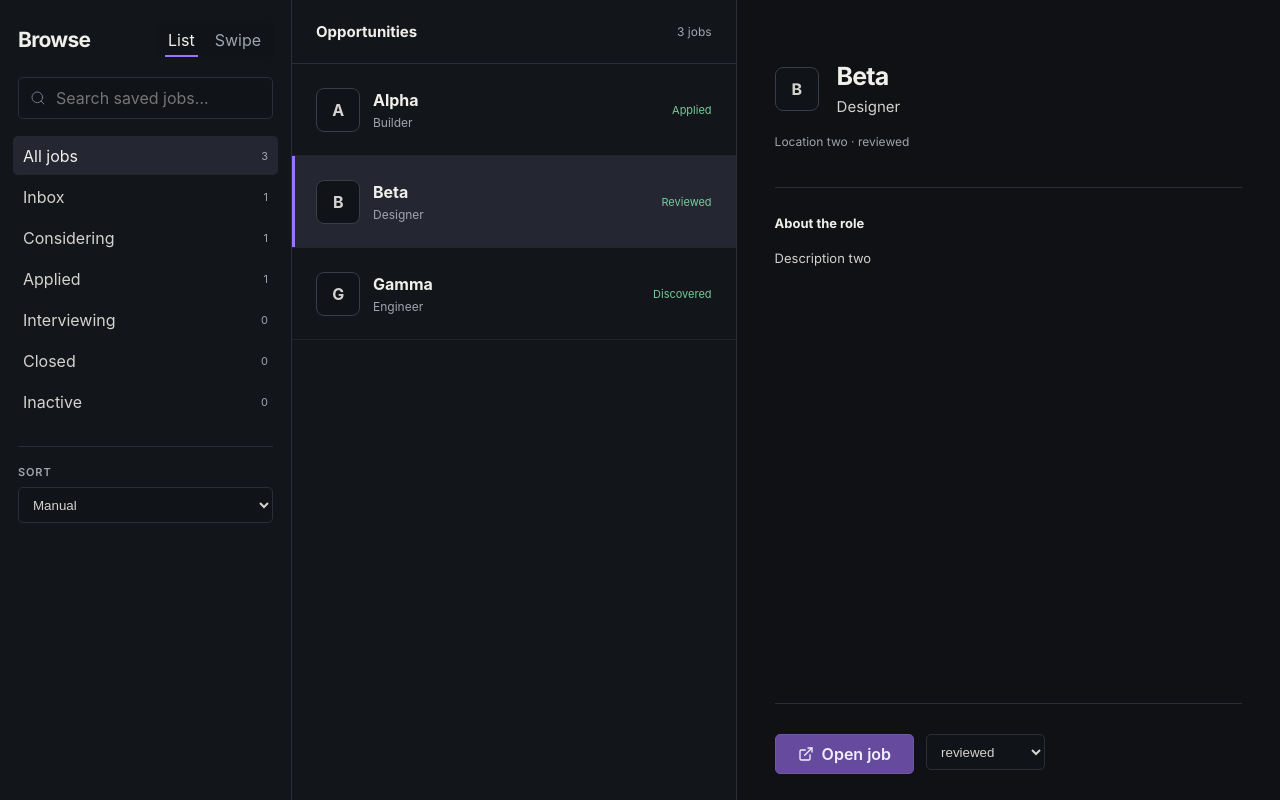
Test: Open job prevents duplicates and reports failure without leaving Browse
expect the text "Description two" is shown: met, box x1=775 y1=251 x2=871 y2=267
Click the button "Open job" at (844, 754), box x1=775 y1=734 x2=914 y2=774
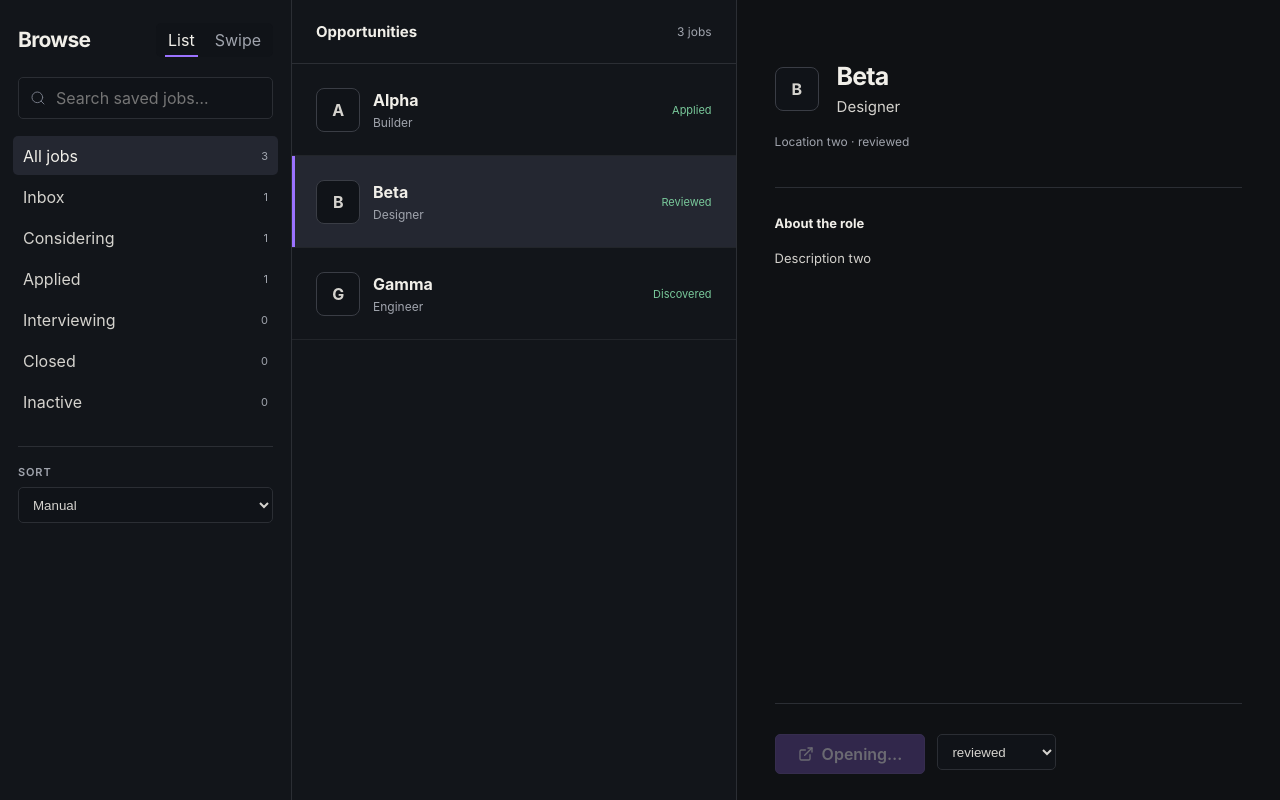
expect the button "Opening…" is disabled: met
Click the button "Opening…" at (850, 754), box x1=775 y1=734 x2=925 y2=774
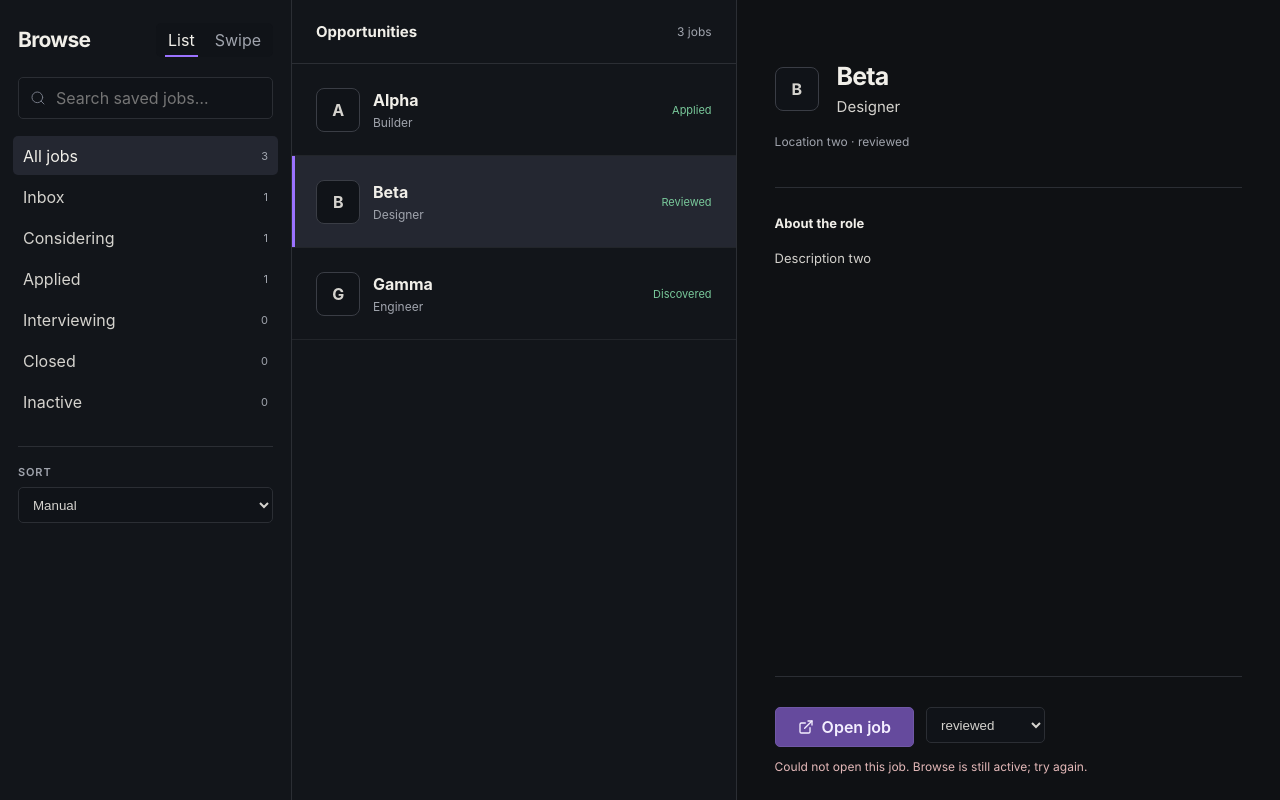
expect the heading "Browse" is shown: met, box x1=18 y1=28 x2=90 y2=52
expect the message shows "Could not open this job": met, box x1=775 y1=759 x2=1087 y2=774
expect the button "Open job" is enabled: met, box x1=775 y1=707 x2=914 y2=747
